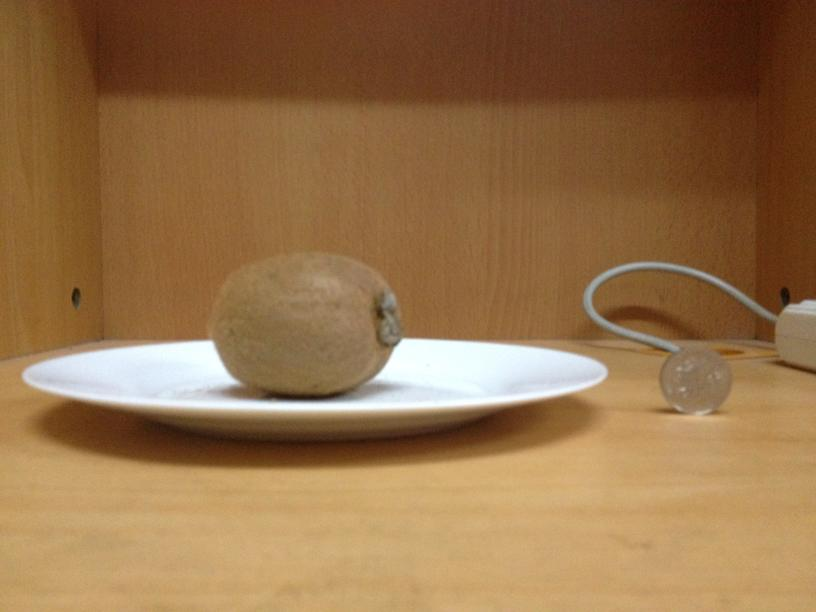coin: (657, 342, 732, 417)
qiwi: (209, 258, 398, 397)
